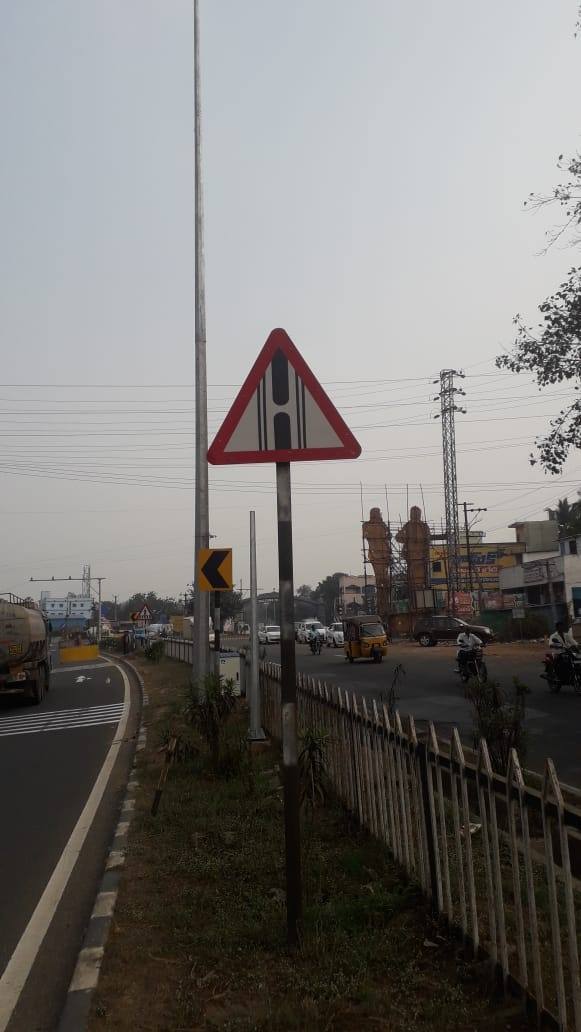highway go straight: (199, 321, 366, 482)
